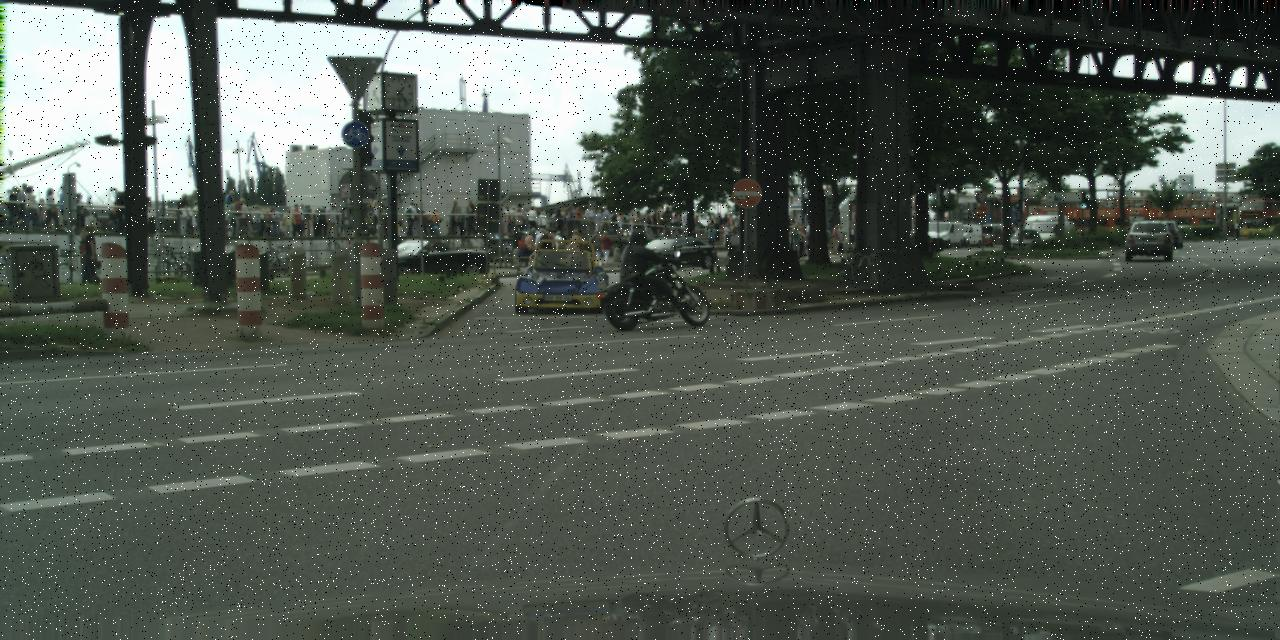ped: (630, 228, 661, 306), (79, 225, 104, 286), (75, 232, 96, 283), (14, 181, 34, 228), (56, 183, 75, 231), (68, 191, 86, 238), (21, 184, 38, 229), (221, 193, 238, 236), (41, 187, 58, 229), (5, 185, 22, 227), (522, 229, 538, 270), (176, 193, 192, 234), (234, 198, 250, 237), (463, 198, 478, 236), (727, 227, 742, 264), (597, 229, 612, 265), (403, 200, 418, 236), (324, 202, 339, 238), (188, 199, 203, 235), (514, 235, 528, 271), (289, 204, 303, 239), (449, 200, 463, 234), (368, 200, 382, 234), (374, 201, 388, 235), (301, 204, 315, 238), (294, 204, 308, 237), (248, 205, 262, 238), (539, 229, 552, 263), (89, 212, 102, 246), (34, 198, 47, 232), (796, 223, 809, 256), (789, 224, 802, 257), (569, 229, 582, 262), (108, 204, 120, 238), (726, 229, 739, 260), (589, 229, 602, 260), (506, 208, 519, 238), (281, 208, 294, 238), (503, 205, 515, 236), (465, 204, 477, 235), (552, 230, 564, 261), (410, 204, 422, 235), (494, 207, 506, 237), (520, 208, 532, 238), (515, 203, 527, 233), (512, 208, 524, 238), (562, 208, 574, 238), (256, 207, 268, 237), (268, 208, 280, 238), (705, 224, 717, 254), (794, 227, 806, 256), (534, 228, 546, 257), (260, 208, 272, 237), (315, 208, 327, 236), (830, 224, 841, 253), (584, 205, 595, 234), (242, 206, 253, 235), (527, 228, 538, 256), (336, 208, 347, 236), (835, 225, 846, 252), (785, 227, 796, 254), (600, 206, 610, 234), (309, 209, 319, 237), (657, 208, 667, 235), (672, 208, 682, 234), (537, 210, 547, 236), (528, 206, 538, 232), (573, 206, 583, 232), (680, 210, 690, 235), (430, 208, 440, 233), (652, 208, 662, 232), (642, 212, 652, 236), (576, 209, 586, 233), (593, 209, 603, 233), (416, 210, 426, 234), (549, 208, 559, 231), (632, 210, 641, 234), (446, 211, 455, 235), (721, 223, 730, 245), (640, 210, 649, 232), (610, 212, 619, 234), (650, 213, 659, 233), (554, 210, 562, 232), (627, 211, 635, 232), (714, 212, 722, 232), (543, 212, 551, 232), (726, 214, 734, 232), (848, 225, 855, 242), (1009, 226, 1016, 243), (805, 222, 812, 239), (1233, 220, 1239, 238), (1228, 221, 1234, 236), (722, 214, 728, 229), (733, 218, 739, 232), (827, 232, 831, 244)
